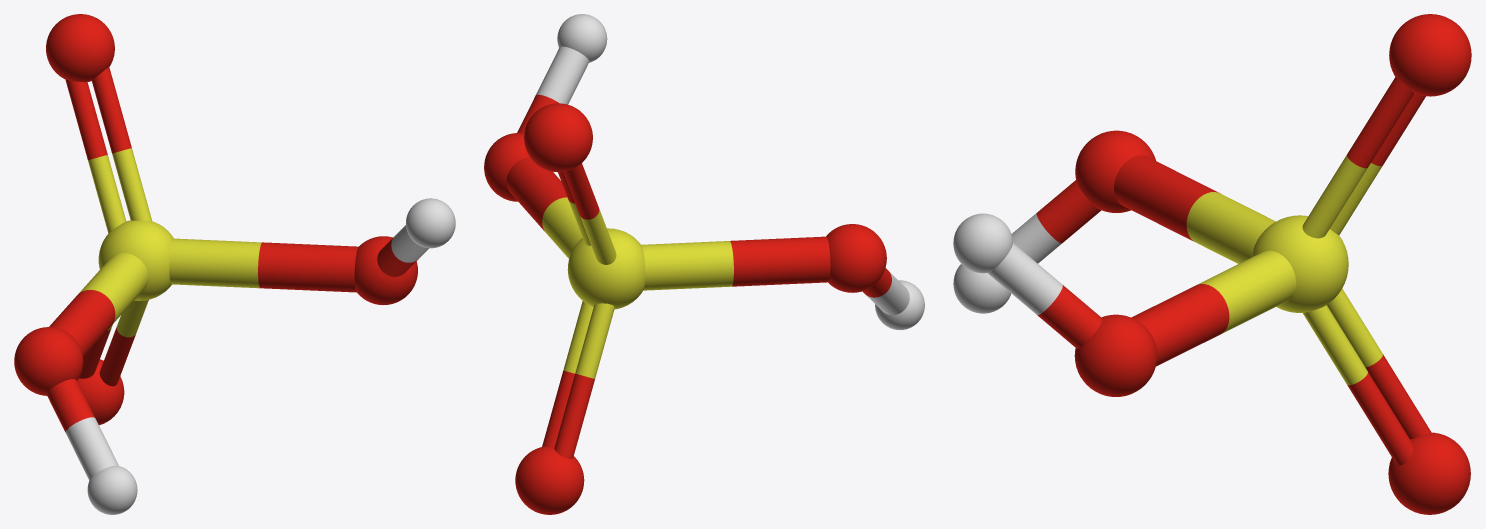
The model's file is SulfuricAcid.glb.
3 views of the same model, side by side, from view 1: azimuth 30°, elevation 25°; view 2: azimuth 150°, elevation 25°; view 3: azimuth 270°, elevation 25° (orthographic). The views are drawn at different scales.
Bounding box in the file's own units: 3.01 × 2.97 × 2.86.
